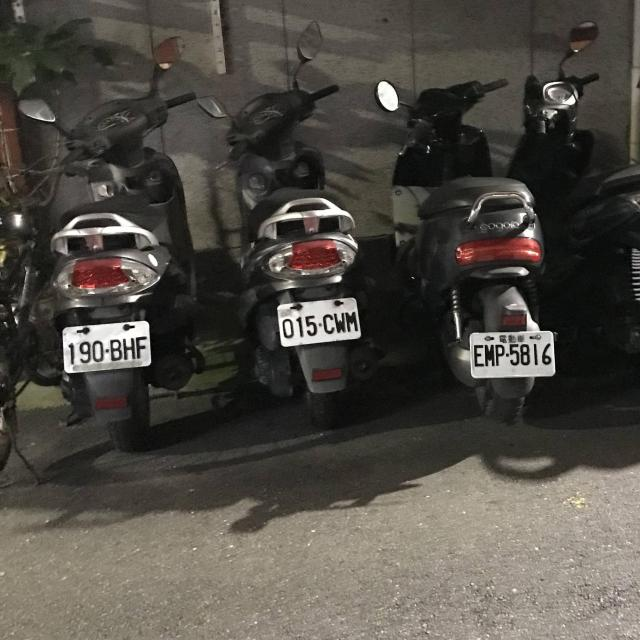W: (60, 317, 155, 374), (273, 293, 364, 349), (467, 326, 558, 382)
